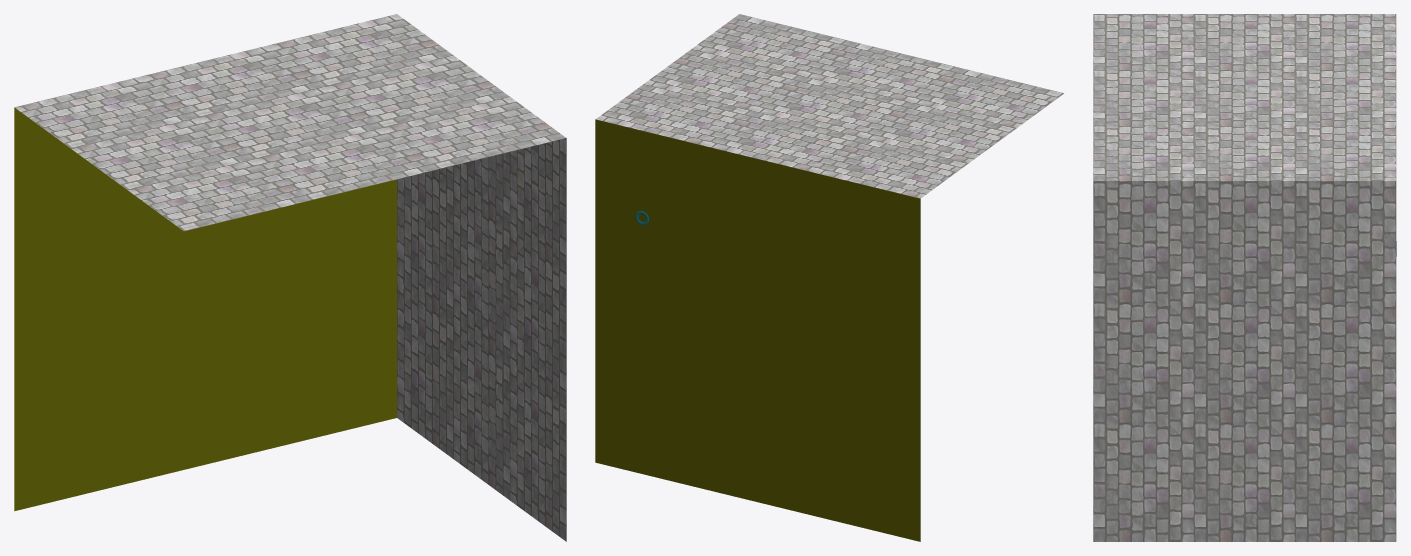
File: Glaeser_test.obj
3 views of the same model, side by side, from view 1: azimuth 30°, elevation 25°; view 2: azimuth 150°, elevation 25°; view 3: azimuth 270°, elevation 25° (orthographic). The views are drawn at different scales.
Visible parts, largest first — view 1: Mesh.001_Room_Box; view 2: Mesh.001_Room_Box; view 3: Mesh.001_Room_Box.
Part boxes in pixels (<box>): Mesh.001_Room_Box: <box>14,14,566,541</box>; Mesh.001_Room_Box: <box>595,14,1063,541</box>; Mesh.001_Room_Box: <box>1093,14,1396,541</box>.
Bounding box in the file's own units: 16.84 × 16.99 × 12.93.
4 materials, 1 textured.
